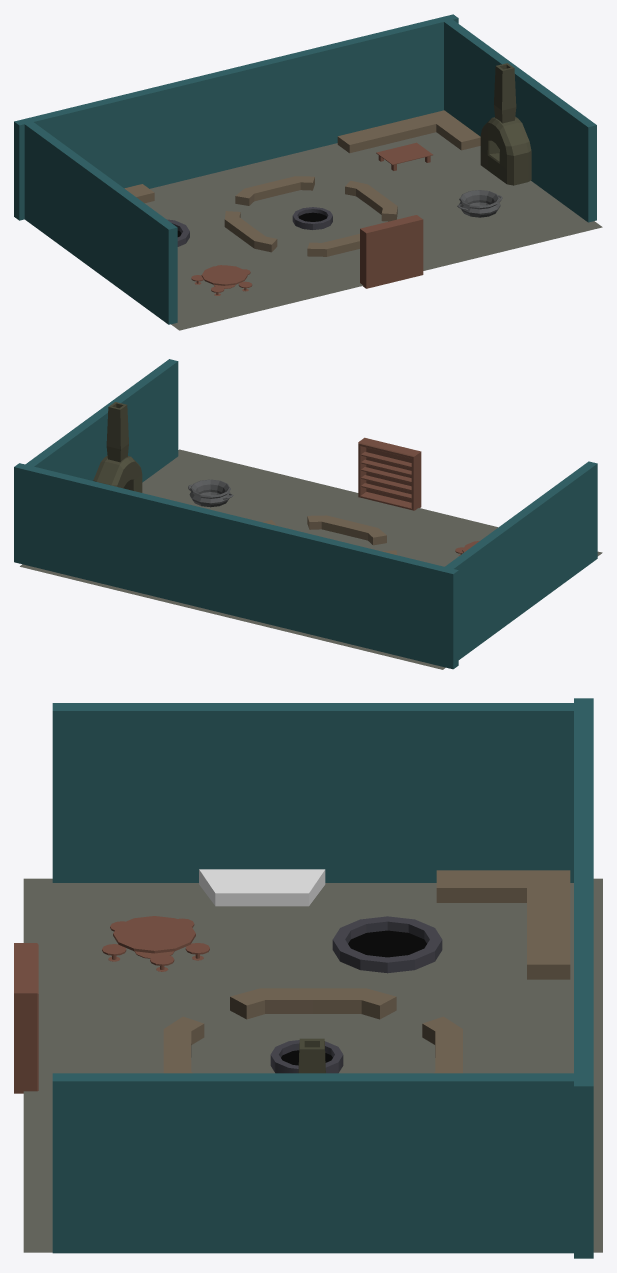
The model's file is blocagemCenarioTCC.fbx.
3 renders of one model, top to bottom at view 1: azimuth 30°, elevation 25°; view 2: azimuth 150°, elevation 25°; view 3: azimuth 270°, elevation 25°, orthographic. The views are drawn at different scales.
Visible parts, largest first — view 1: Cube, Plane.001, Fornalha, Estoque, Bancada/estante, Bancada Competidor.001, Bancada Competidor.002, Mesa redonda, Caldeirão, Mesa, Poço.001; view 2: Cube, Plane.001, Estoque, Fornalha, Bancada Competidor.001, Caldeirão; view 3: Cube, Plane.001, Bancada/estante, Fonte Misteriosa, Cube.001, Bancada Competidor.002, Estoque, Mesa redonda, Bancada Competidor.001, Poço.001, Fornalha.
Part boxes in pixels (left/top/right/bottom): Cube: left=14, top=14, right=596, bottom=324; Plane.001: left=145, top=132, right=602, bottom=330; Fornalha: left=480, top=63, right=531, bottom=185; Estoque: left=360, top=215, right=423, bottom=288; Bancada/estante: left=124, top=110, right=480, bottom=203; Bancada Competidor.001: left=235, top=176, right=359, bottom=256; Bancada Competidor.002: left=224, top=180, right=397, bottom=252; Mesa redonda: left=191, top=265, right=252, bottom=295; Caldeirão: left=457, top=190, right=502, bottom=217; Mesa: left=376, top=142, right=432, bottom=170; Poço.001: left=292, top=207, right=332, bottom=229; Cube: left=14, top=359, right=597, bottom=669; Plane.001: left=20, top=449, right=602, bottom=669; Estoque: left=358, top=437, right=421, bottom=510; Fornalha: left=93, top=402, right=142, bottom=492; Bancada Competidor.001: left=307, top=515, right=386, bottom=545; Caldeirão: left=188, top=479, right=233, bottom=507; Cube: left=52, top=698, right=593, bottom=1258; Plane.001: left=23, top=878, right=602, bottom=1252; Bancada/estante: left=436, top=870, right=570, bottom=979; Fonte Misteriosa: left=332, top=916, right=442, bottom=973; Cube.001: left=199, top=869, right=325, bottom=906; Bancada Competidor.002: left=230, top=988, right=396, bottom=1019; Estoque: left=14, top=943, right=38, bottom=1093; Mesa redonda: left=102, top=916, right=209, bottom=971; Bancada Competidor.001: left=163, top=1016, right=462, bottom=1073; Poço.001: left=270, top=1040, right=343, bottom=1073; Fornalha: left=298, top=1038, right=325, bottom=1073.
Bounding box in the file's own units: 4887 × 1160 × 3136.
